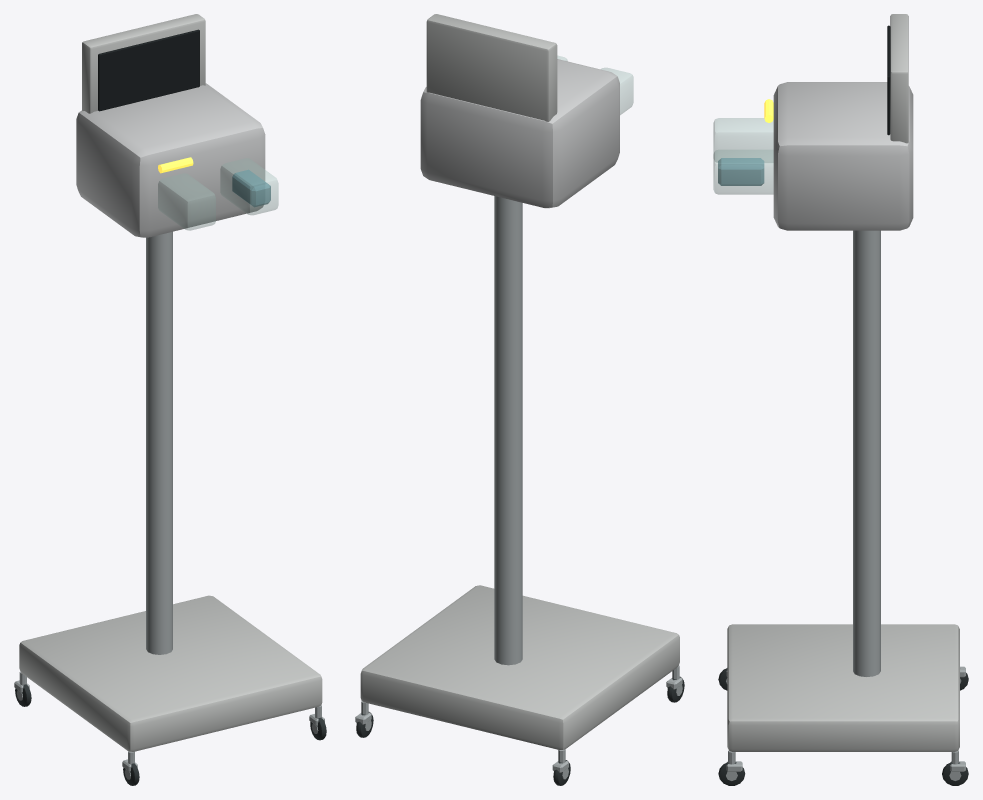
The model's file is sc-contrast-injector.glb.
3 renders of one model, left to right at view 1: azimuth 30°, elevation 25°; view 2: azimuth 150°, elevation 25°; view 3: azimuth 270°, elevation 25°, orthographic. The views are drawn at different scales.
Parts seen in each view (by area): view 1: sc-contrast-injector; view 2: sc-contrast-injector; view 3: sc-contrast-injector.
Part boxes in pixels (left/top/right/bottom): sc-contrast-injector: left=14, top=14, right=326, bottom=785; sc-contrast-injector: left=355, top=14, right=684, bottom=785; sc-contrast-injector: left=713, top=14, right=968, bottom=785.
Size of the model in its own units: 0.5038 by 1.65 by 0.5488.
